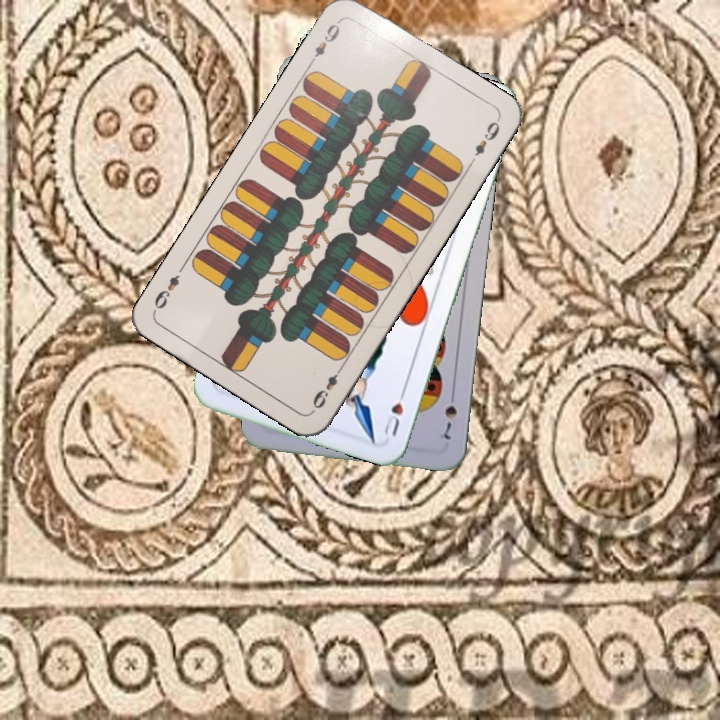E9: (305, 16, 343, 68), (308, 361, 346, 412)
HU: (380, 383, 410, 439)
S7: (440, 386, 460, 442)
